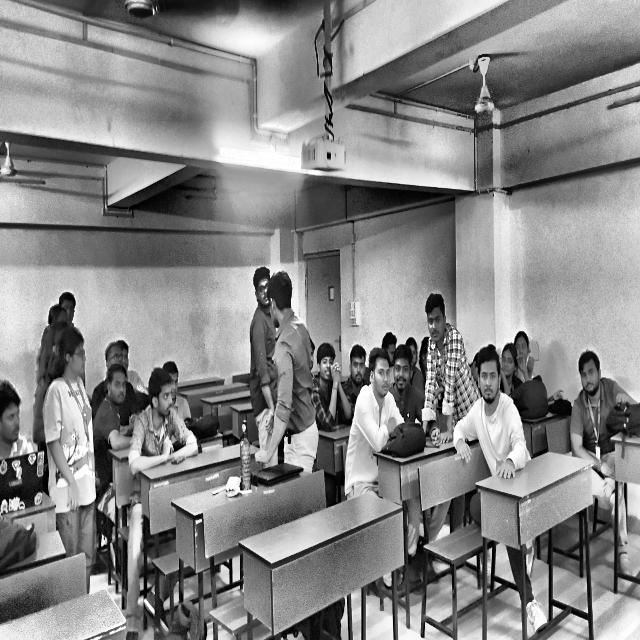Focus: (316, 340, 337, 390), (106, 338, 125, 374)
Not Focus: (473, 348, 510, 412), (571, 348, 612, 398), (54, 330, 87, 390), (392, 344, 418, 401), (369, 353, 394, 407), (422, 294, 447, 345), (252, 266, 274, 318), (109, 368, 129, 410), (350, 347, 367, 392)
